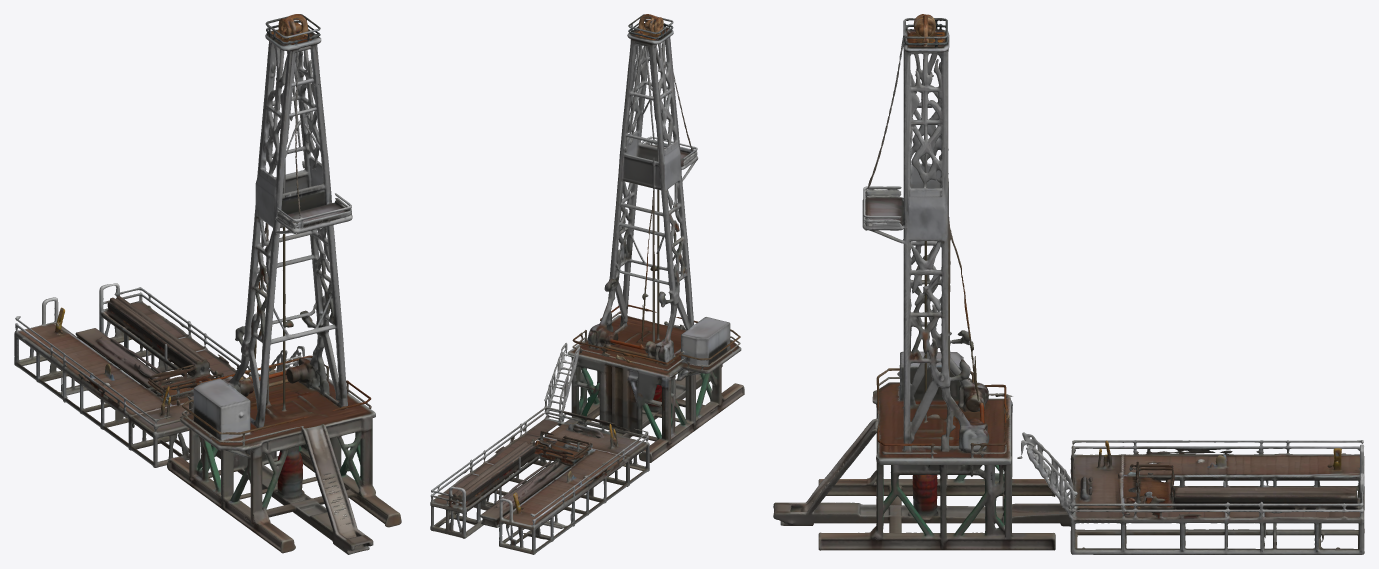
Rendered from pozo3.glb.
3 renders of one model, left to right at view 1: azimuth 30°, elevation 25°; view 2: azimuth 150°, elevation 25°; view 3: azimuth 270°, elevation 25°, orthographic. The views are drawn at different scales.
Parts seen in each view (by area): view 1: tripo_node_1895622d-cd10-4c45-b25e-4906203fc8d2; view 2: tripo_node_1895622d-cd10-4c45-b25e-4906203fc8d2; view 3: tripo_node_1895622d-cd10-4c45-b25e-4906203fc8d2.
Part boxes in pixels (x1,y1,x2,y2): tripo_node_1895622d-cd10-4c45-b25e-4906203fc8d2: [14, 14, 401, 554]; tripo_node_1895622d-cd10-4c45-b25e-4906203fc8d2: [430, 14, 744, 554]; tripo_node_1895622d-cd10-4c45-b25e-4906203fc8d2: [773, 14, 1364, 554].
Bounding box in the file's own units: 0.3131 × 0.9508 × 1.
1 material, 1 textured.
